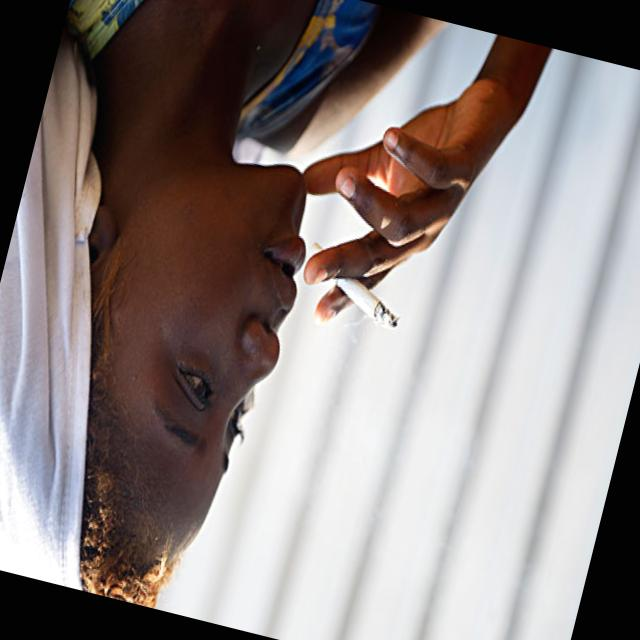smoke: (334, 272, 408, 334)
